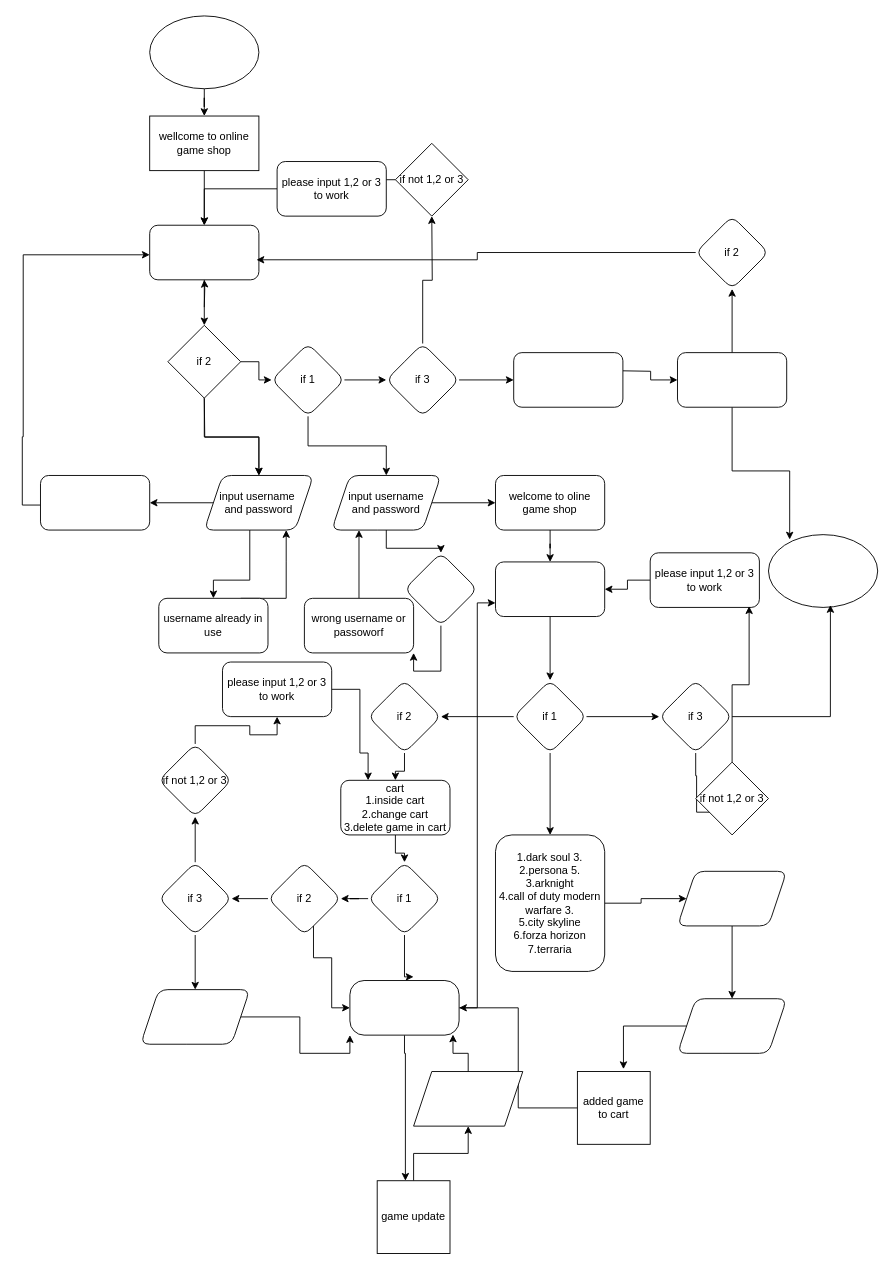
Some shapes in this 894 by 1269 pixel diagram are drawn without their labels. The shapes that lost their labels are listed below. From the top down, each one's centre as x and y in pixels, then its label:
pixel 204 52: Mulai
pixel 204 252: 1. login 2. register 3. exit
pixel 568 379: are you sure want to exit
pixel 732 379: 1.yes 2.no
pixel 95 502: username and password has been save
pixel 440 589: if wrong
pixel 550 589: 1. list game 2. cart 3.exit
pixel 823 570: selesai
pixel 732 898: input game want to added to cart
pixel 195 1016: input game want to delete
pixel 404 1007: game inside cart
pixel 732 1025: enumarete game
pixel 468 1098: input game want to update
